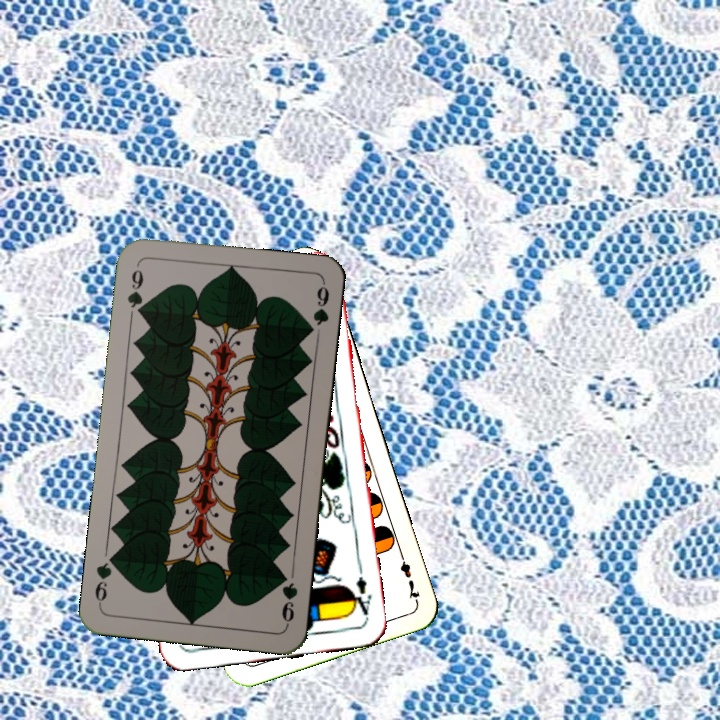E7: (395, 546, 423, 604)
EA: (346, 572, 374, 621)
G9: (276, 568, 301, 628), (123, 261, 146, 320)
